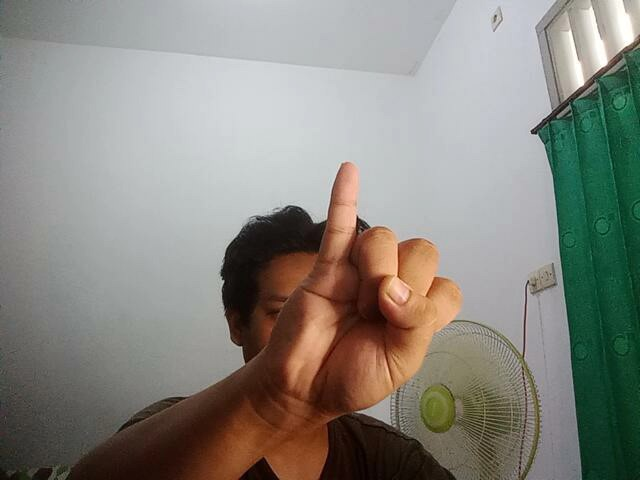I: (263, 140, 467, 416)
